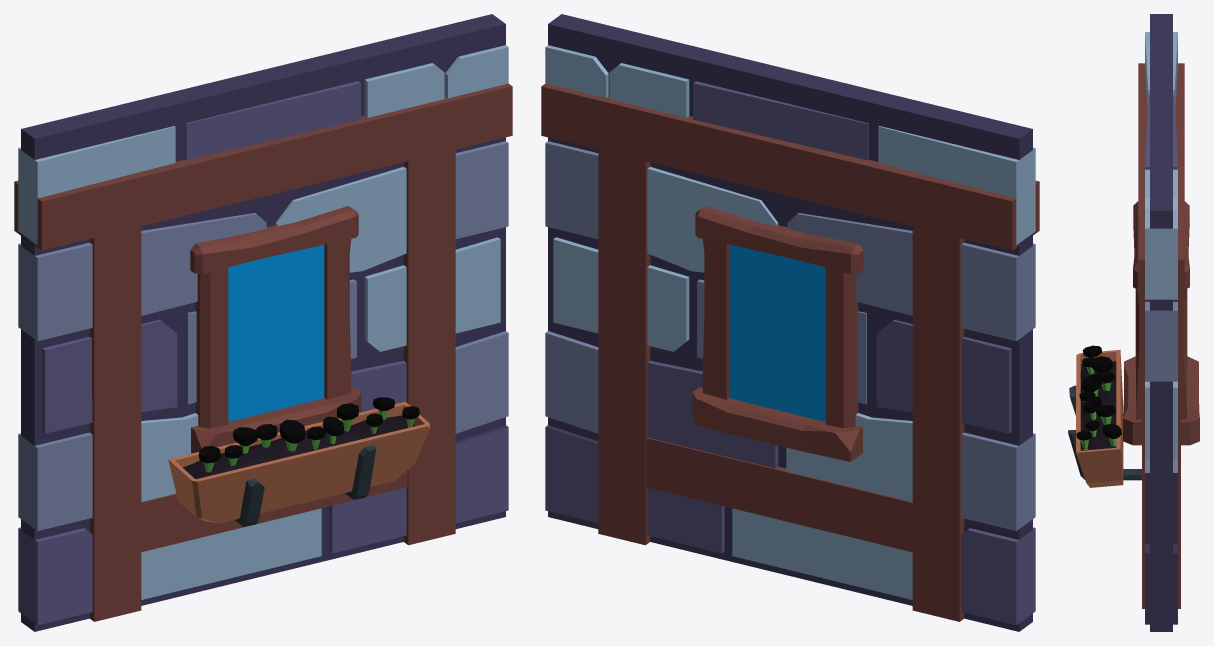
The model's file is Modular Wall 10 MK2 W3.fbx.
The picture shows the model from 3 angles, left to right: view 1: azimuth 30°, elevation 25°; view 2: azimuth 150°, elevation 25°; view 3: azimuth 270°, elevation 25°; orthographic projection. The views are drawn at different scales.
Visible parts, largest first — view 1: Modular Wall 10 MK2 W3; view 2: Modular Wall 10 MK2 W3; view 3: Modular Wall 10 MK2 W3.
Part boxes in pixels (<box>): Modular Wall 10 MK2 W3: <box>14,14,512,631</box>; Modular Wall 10 MK2 W3: <box>541,14,1039,631</box>; Modular Wall 10 MK2 W3: <box>1068,14,1199,631</box>.
Size of the model in its own units: 400 by 400 by 113.
